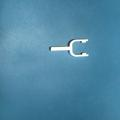u-shape: (48, 37, 89, 58)
